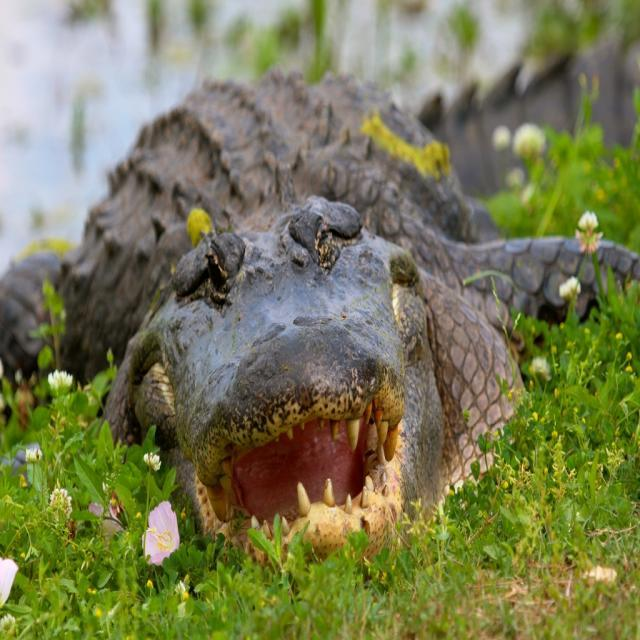crocodile: (11, 73, 637, 560)
